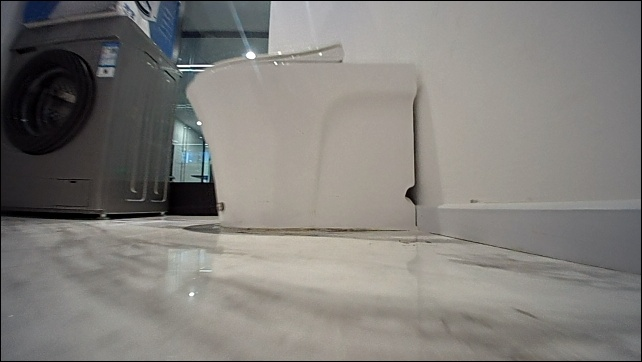toilet: (184, 40, 423, 234)
washing_machine: (0, 12, 183, 220)
